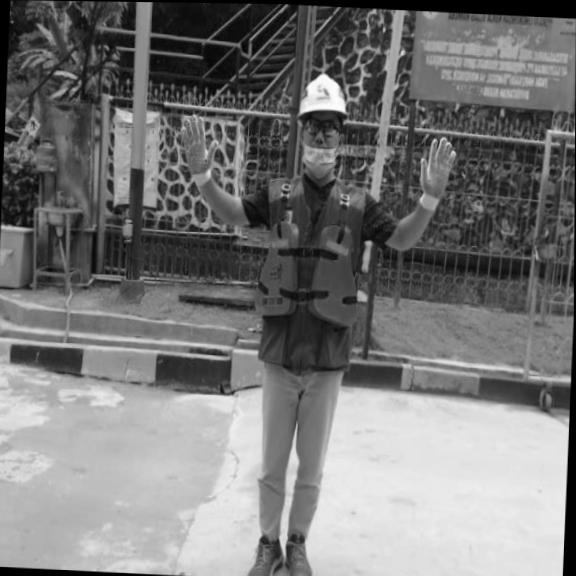safety_vest: (251, 217, 362, 328)
